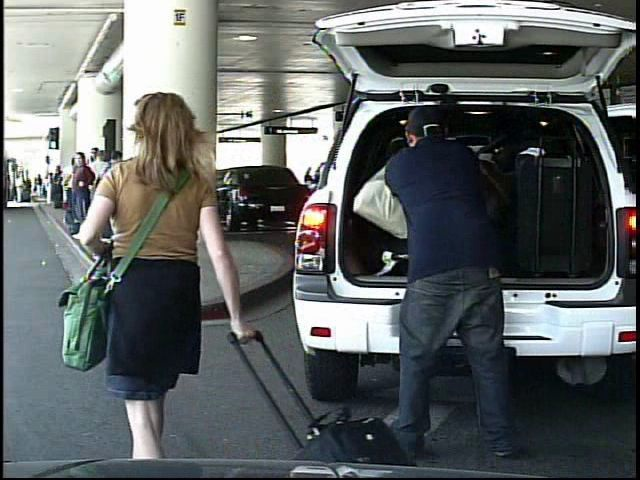person: (84, 80, 247, 457), (378, 100, 528, 465), (302, 166, 315, 197), (14, 173, 25, 204), (34, 173, 45, 200)
